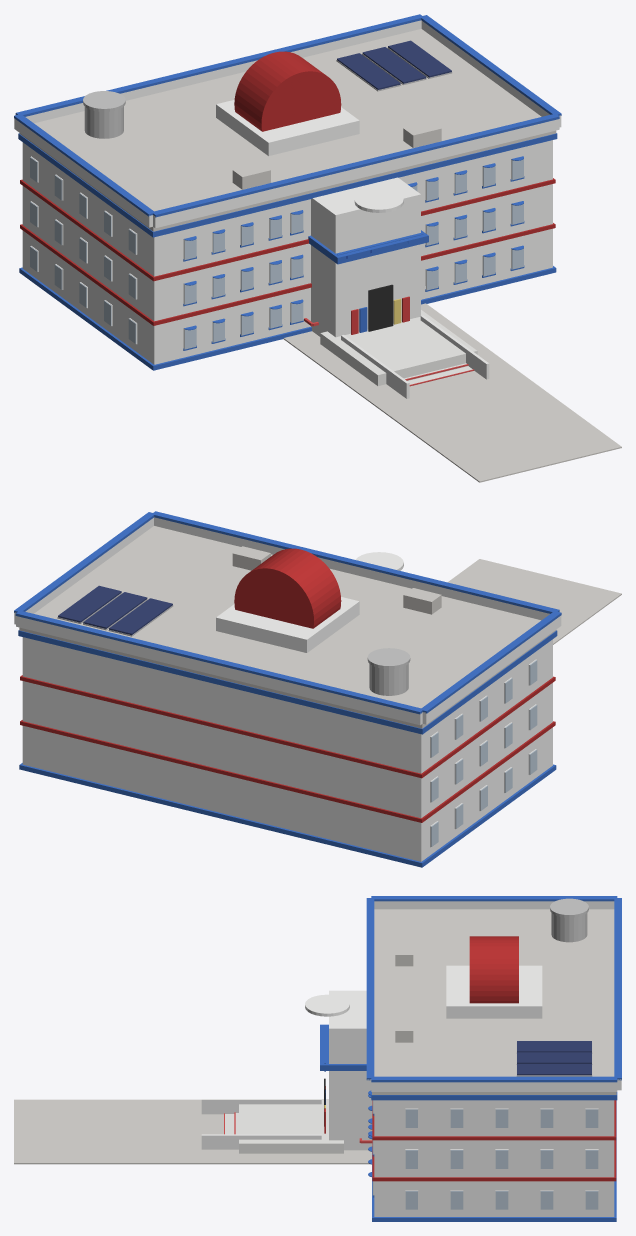
The model's file is SCHOOL.glb.
3 renders of one model, top to bottom at view 1: azimuth 30°, elevation 25°; view 2: azimuth 150°, elevation 25°; view 3: azimuth 270°, elevation 25°, orthographic. The views are drawn at different scales.
Visible parts, largest first — view 1: RoofSlab, Drive, Floor2, Floor3, Floor1, PorchBody, BarrelDome, Platform, ParFront, DomeDrum, CorniceTop, ParFrontCap (+21 smaller); view 2: RoofSlab, Floor2, Floor3, Floor1, BarrelDome, Drive, ParBack, Skirting, CorniceTop, DomeDrum, ParFront, Cornice12 (+15 smaller); view 3: RoofSlab, Drive, Floor2, Floor3, Floor1, PorchBody, Platform, BarrelDome, DomeDrum, ParRight, ParLeft, ParRightCap (+18 smaller).
Boxes of the visible parts, x1=… form: RoofSlab: x1=19, y1=29, x2=556, y2=231; Drive: x1=283, y1=303, x2=621, y2=482; Floor2: x1=22, y1=184, x2=552, y2=321; Floor3: x1=22, y1=140, x2=552, y2=276; Floor1: x1=22, y1=228, x2=552, y2=364; PorchBody: x1=311, y1=177, x2=420, y2=337; BarrelDome: x1=234, y1=51, x2=341, y2=131; Platform: x1=320, y1=310, x2=477, y2=385; ParFront: x1=153, y1=119, x2=559, y2=228; DomeDrum: x1=216, y1=100, x2=359, y2=155; CorniceTop: x1=18, y1=133, x2=557, y2=237; ParFrontCap: x1=153, y1=114, x2=559, y2=217; RoofSlab: x1=19, y1=526, x2=556, y2=728; Floor2: x1=22, y1=681, x2=552, y2=818; Floor3: x1=22, y1=637, x2=552, y2=773; Floor1: x1=22, y1=726, x2=552, y2=861; BarrelDome: x1=234, y1=548, x2=341, y2=628; Drive: x1=447, y1=559, x2=621, y2=644; ParBack: x1=16, y1=616, x2=422, y2=725; Skirting: x1=19, y1=763, x2=556, y2=867; CorniceTop: x1=18, y1=630, x2=557, y2=734; DomeDrum: x1=216, y1=597, x2=359, y2=652; ParFront: x1=154, y1=517, x2=549, y2=620; Cornice12: x1=20, y1=720, x2=555, y2=822; RoofSlab: x1=372, y1=909, x2=616, y2=1094; Drive: x1=14, y1=1099, x2=371, y2=1164; Floor2: x1=374, y1=1140, x2=614, y2=1177; Floor3: x1=374, y1=1100, x2=614, y2=1136; Floor1: x1=374, y1=1181, x2=614, y2=1216; PorchBody: x1=329, y1=990, x2=372, y2=1150; Platform: x1=239, y1=1099, x2=343, y2=1153; BarrelDome: x1=469, y1=936, x2=518, y2=1003; DomeDrum: x1=446, y1=965, x2=542, y2=1018; ParRight: x1=371, y1=1082, x2=617, y2=1091; ParLeft: x1=374, y1=901, x2=614, y2=909; ParRightCap: x1=371, y1=1076, x2=617, y2=1082.
Bounding box in the file's own units: 29 × 14.31 × 40.5.
